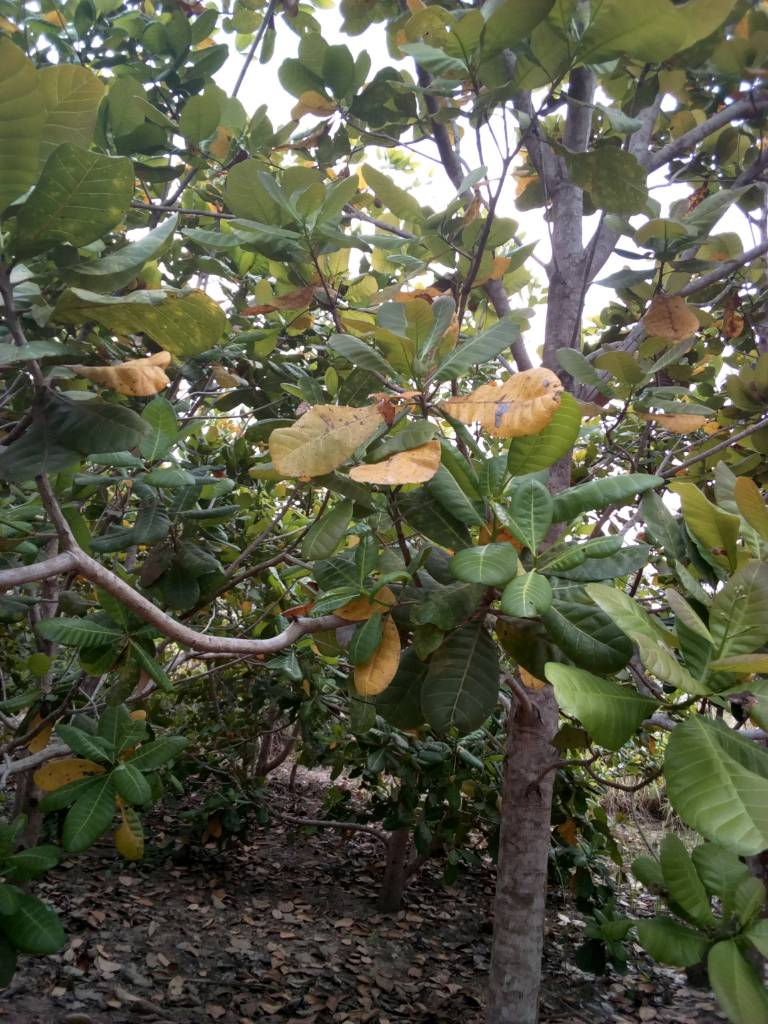Pestalotiose: (22, 146, 149, 266), (71, 286, 225, 352), (271, 399, 377, 477)
